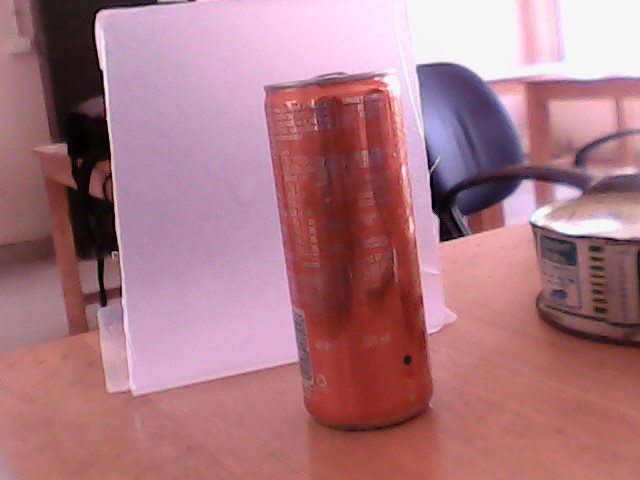Metal: (249, 83, 456, 480)
